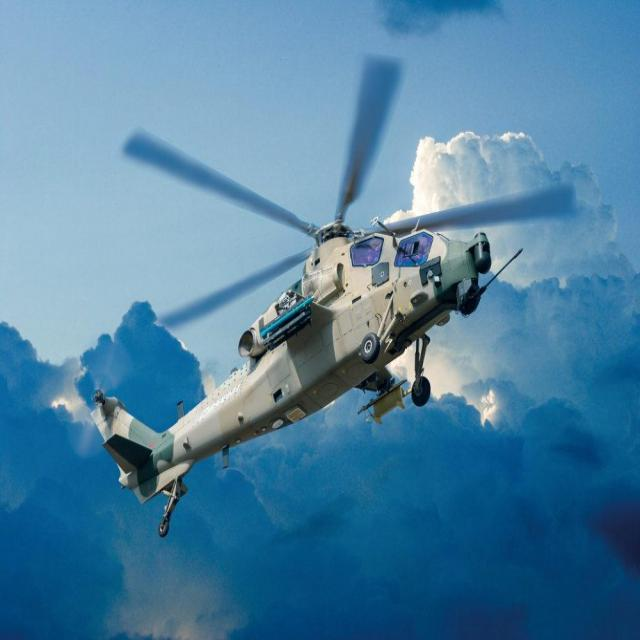MIL_HELO: (72, 34, 552, 553)
